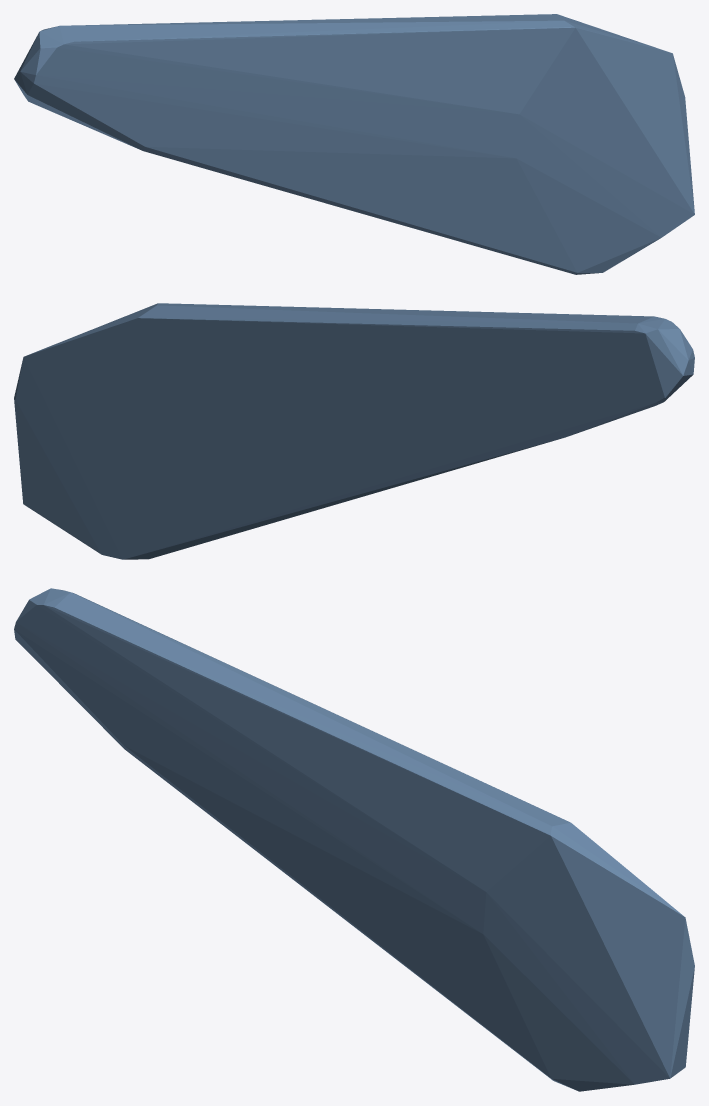
File: serviceTool_wrench_hoseFitting_a01.glb
The picture shows the model from 3 angles, top to bottom: view 1: azimuth 30°, elevation 25°; view 2: azimuth 150°, elevation 25°; view 3: azimuth 330°, elevation 25°; orthographic projection.
Parts seen in each view (by area): view 1: geometry_0; view 2: geometry_0; view 3: geometry_0.
Boxes of the visible parts, bbox=[...] form: geometry_0: bbox=[14, 14, 694, 274]; geometry_0: bbox=[14, 303, 694, 559]; geometry_0: bbox=[14, 588, 694, 1091].
Bounding box in the file's own units: 0.4795 × 0.2484 × 0.0299.
